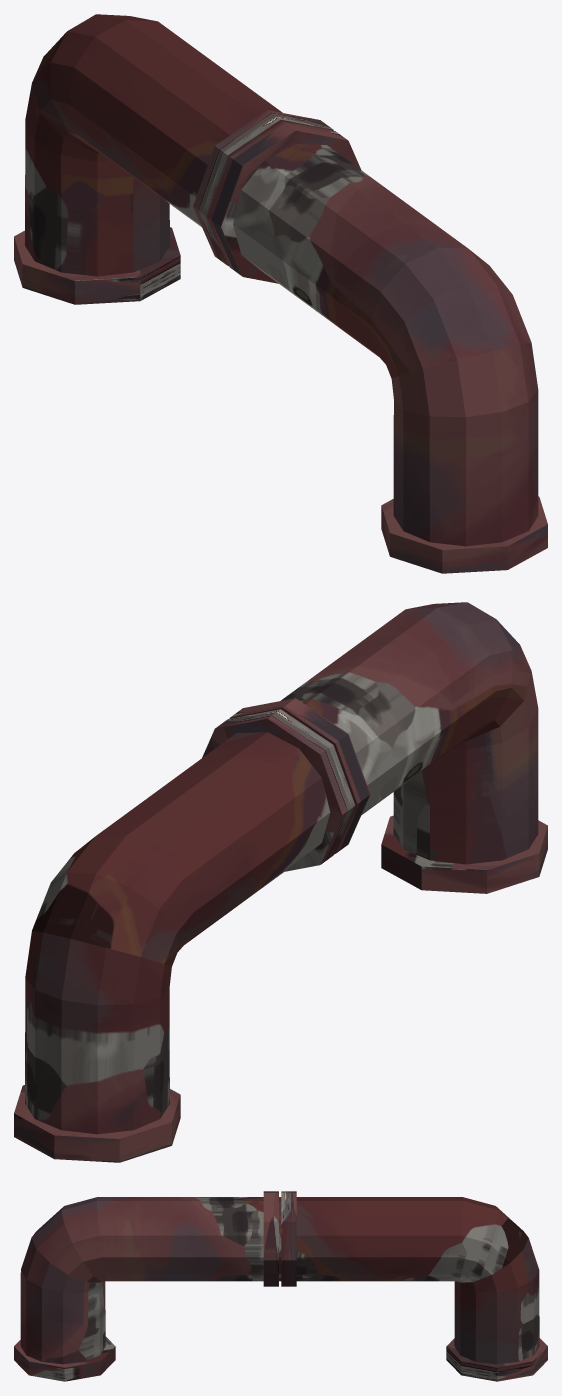
Rendered from pipe 2.fbx.
3 views of the same model, one above another, from view 1: azimuth 30°, elevation 25°; view 2: azimuth 150°, elevation 25°; view 3: azimuth 270°, elevation 25° (orthographic). The views are drawn at different scales.
Visible parts, largest first — view 1: pipe 2; view 2: pipe 2; view 3: pipe 2.
Part boxes in pixels (<box>): pipe 2: <box>14,14,547,573</box>; pipe 2: <box>14,602,547,1162</box>; pipe 2: <box>14,1191,547,1381</box>.
Bounding box in the file's own units: 143 × 260 × 752.
